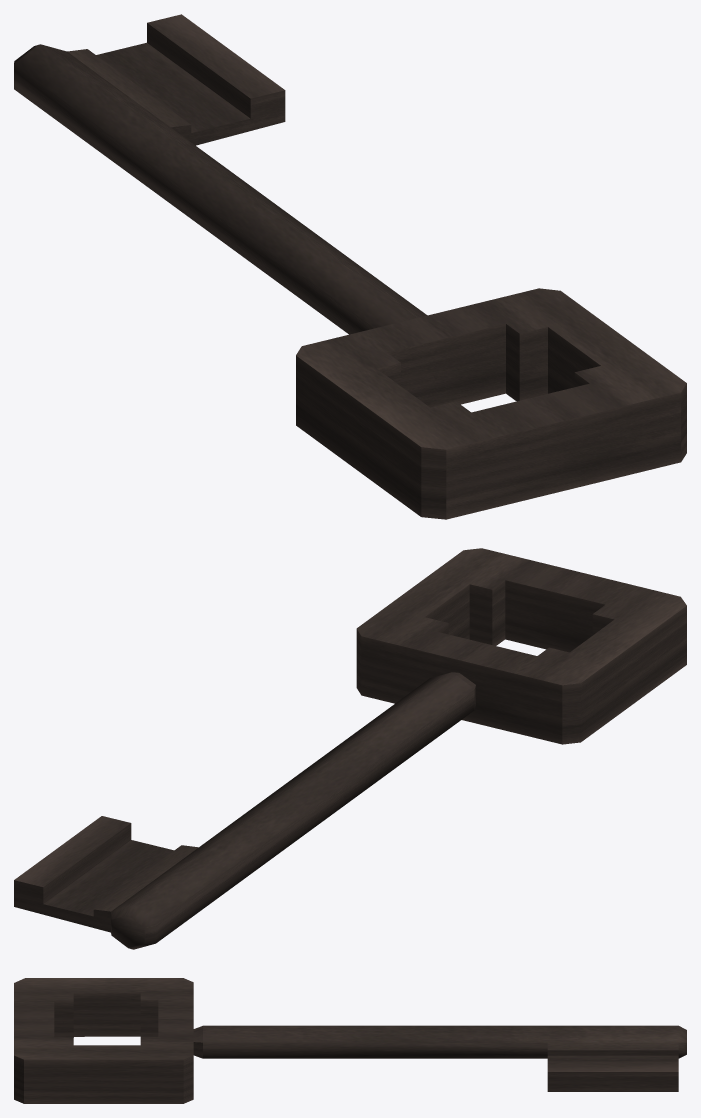
The model's file is key7.FBX.
The picture shows the model from 3 angles, top to bottom: view 1: azimuth 30°, elevation 25°; view 2: azimuth 150°, elevation 25°; view 3: azimuth 270°, elevation 25°; orthographic projection. The views are drawn at different scales.
Parts seen in each view (by area): view 1: mesh; view 2: mesh; view 3: mesh.
Boxes of the visible parts, left/top/right/bottom form: mesh: left=14, top=14, right=686, bottom=519; mesh: left=14, top=548, right=686, bottom=949; mesh: left=14, top=978, right=686, bottom=1103.
Bounding box in the file's own units: 11.49 × 2.77 × 38.17.
